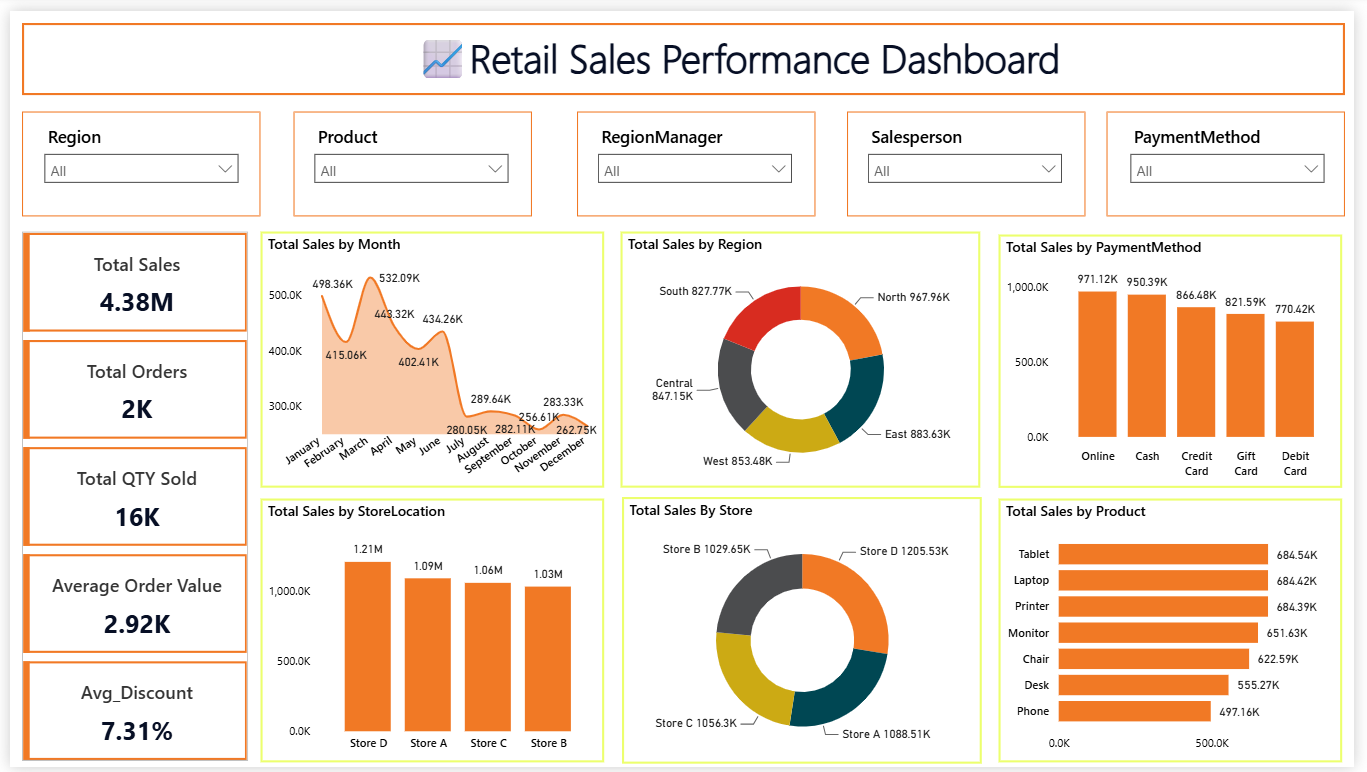

What the dashboard file says about the page in this screenshot:
{"tool":"powerbi","page":{"name":"Page 1","canvas":[1280,720],"ordinal":0},"visuals":[{"type":"shape","box":[12.1,95.4,227.1,99.9],"z":0},{"type":"shape","box":[1044.8,95.4,227.1,99.9],"z":1000},{"type":"shape","box":[796.5,95.4,227.1,99.9],"z":2000},{"type":"shape","box":[540.6,95.4,227.1,99.9],"z":3000},{"type":"shape","box":[269.5,95.4,227.1,99.9],"z":4000},{"type":"textbox","box":[11.4,11.4,1260,68.6],"z":5000},{"type":"slicer","fields":{"Values":["Product.Region"]},"box":[22.7,103,204.4,83.3],"z":6000},{"type":"slicer","fields":{"Values":["Product.PaymentMethod"]},"box":[1056.9,103,204.4,83.3],"z":7000},{"type":"slicer","fields":{"Values":["Product.Salesperson"]},"box":[807.1,103,204.4,83.3],"z":8000},{"type":"slicer","fields":{"Values":["Product.RegionManager"]},"box":[549.7,103,204.4,83.3],"z":9000},{"type":"slicer","fields":{"Values":["Product.Product"]},"box":[280.1,103,204.4,83.3],"z":10000},{"type":"cardVisual","fields":{"Data":["Product.Total Sales","Product.Total Orders","Product.Total QTY Sold","Product.Average Order Value","Product.Avg_Discount"]},"box":[12.1,210.5,215,508.8],"z":11000},{"type":"areaChart","fields":{"Category":["Product.Date.Variation.Date Hierarchy.Year","Product.Date.Variation.Date Hierarchy.Quarter","Product.Date.Variation.Date Hierarchy.Month","Product.Date.Variation.Date Hierarchy.Day"],"Y":["Product.Total Sales"]},"box":[239.2,210.5,327.1,243.8],"z":12000},{"type":"donutChart","fields":{"Category":["Product.Region"],"Y":["Product.Total Sales"]},"box":[581.4,210,342.9,244.3],"z":13000},{"type":"donutChart","title":"Total Sales By Store","fields":{"Category":["Product.StoreLocation"],"Y":["Sum(Product.TotalPrice)"]},"box":[582.9,462.9,342.9,254.3],"z":14000},{"type":"columnChart","fields":{"Category":["Product.StoreLocation"],"Y":["Product.Total Sales"]},"box":[239.2,464.9,327.1,251.4],"z":15000},{"type":"columnChart","fields":{"Category":["Product.PaymentMethod"],"Y":["Product.Total Sales"]},"box":[941.4,212.9,327.1,241.4],"z":16000},{"type":"barChart","fields":{"Category":["Product.Product"],"Y":["Product.Total Sales"]},"box":[941.4,464.3,327.1,251.4],"z":17000}]}

Visuals, with their boxes in screenshot pixels (x1, y1, x2, y2), scaled from the page's 1280x720 canvas onto the 1367x772 screenshot:
shape: Rect(13, 102, 255, 209)
shape: Rect(1116, 102, 1358, 209)
shape: Rect(851, 102, 1093, 209)
shape: Rect(577, 102, 820, 209)
shape: Rect(288, 102, 530, 209)
textbox: Rect(12, 12, 1358, 86)
slicer - Product.Region: Rect(24, 110, 243, 200)
slicer - Product.PaymentMethod: Rect(1129, 110, 1347, 200)
slicer - Product.Salesperson: Rect(862, 110, 1080, 200)
slicer - Product.RegionManager: Rect(587, 110, 805, 200)
slicer - Product.Product: Rect(299, 110, 517, 200)
cardVisual - Product.Total Sales x Product.Total Orders: Rect(13, 226, 243, 771)
areaChart - Product.Date.Variation.Date Hierarchy.Year x Product.Date.Variation.Date Hierarchy.Quarter: Rect(255, 226, 605, 487)
donutChart - Product.Region x Product.Total Sales: Rect(621, 225, 987, 487)
"Total Sales By Store" donutChart: Rect(623, 496, 989, 769)
columnChart - Product.StoreLocation x Product.Total Sales: Rect(255, 498, 605, 768)
columnChart - Product.PaymentMethod x Product.Total Sales: Rect(1005, 228, 1355, 487)
barChart - Product.Product x Product.Total Sales: Rect(1005, 498, 1355, 767)
